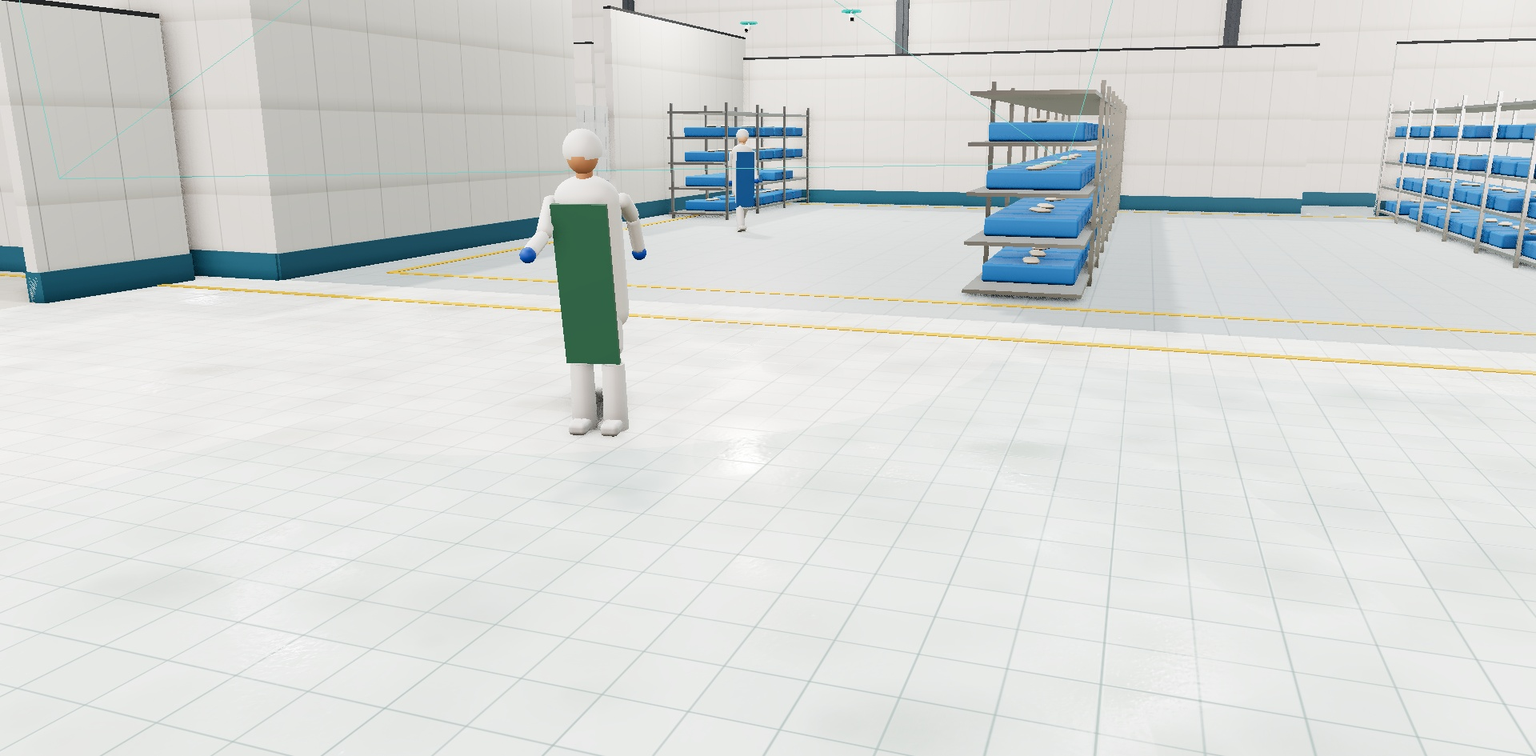apron: (543, 201, 627, 374), (735, 152, 756, 208)
glove: (512, 243, 543, 267), (626, 241, 653, 265), (751, 177, 762, 185), (726, 180, 736, 185)
hairnet: (546, 125, 616, 161), (731, 128, 754, 138)
person: (488, 124, 668, 465), (717, 128, 771, 233)
